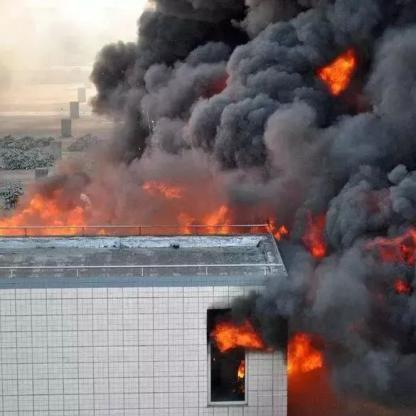fire: (286, 334, 324, 374), (318, 55, 354, 94), (212, 322, 262, 349), (306, 219, 325, 257), (30, 195, 56, 219), (202, 207, 228, 224), (68, 206, 86, 224), (0, 214, 22, 226), (44, 228, 76, 235), (274, 224, 288, 238), (0, 228, 24, 236), (206, 226, 230, 233), (236, 360, 243, 378)
